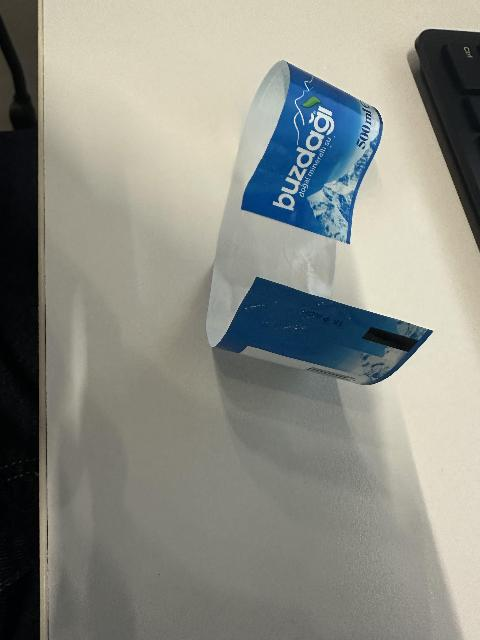Plastik: (206, 60, 433, 387)
